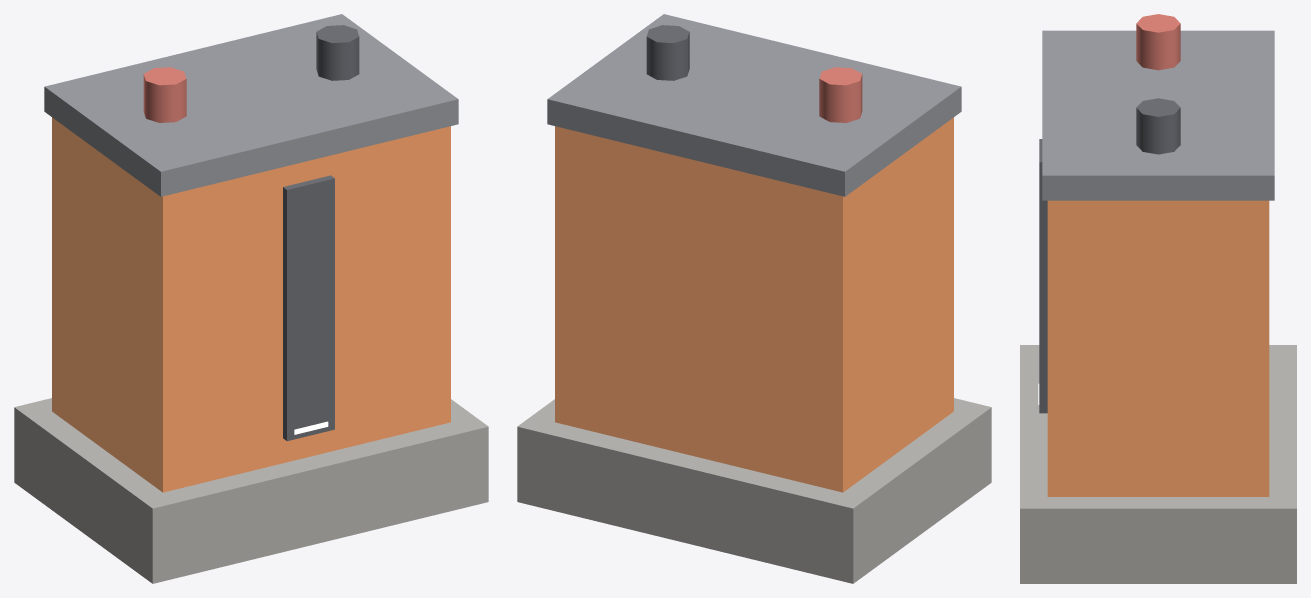
The model's file is build_battery.glb.
The picture shows the model from 3 angles, left to right: view 1: azimuth 30°, elevation 25°; view 2: azimuth 150°, elevation 25°; view 3: azimuth 270°, elevation 25°; orthographic projection.
Visible parts, largest first — view 1: Baked; view 2: Baked; view 3: Baked.
Boxes of the visible parts, x1,y1,x2,y2 form: Baked: (14,14,488,583); Baked: (517,14,991,583); Baked: (1020,14,1296,583).
Bounding box in the file's own units: 0.7 × 0.87 × 0.5.
